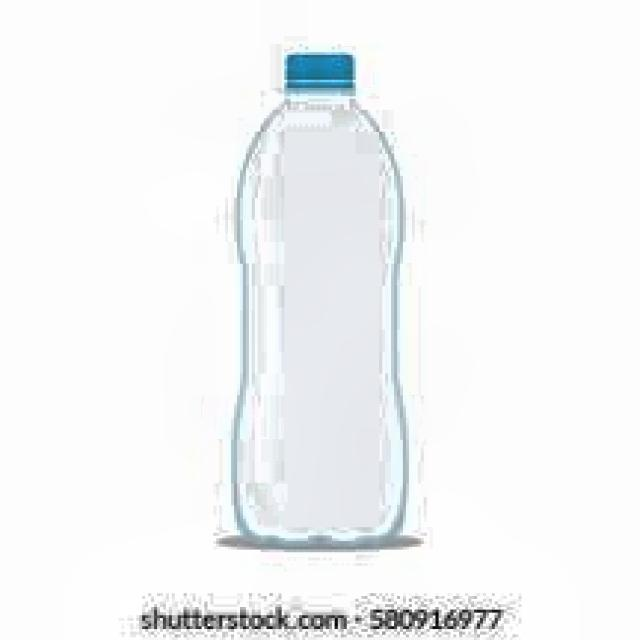plastic bottle: (237, 54, 405, 547)
